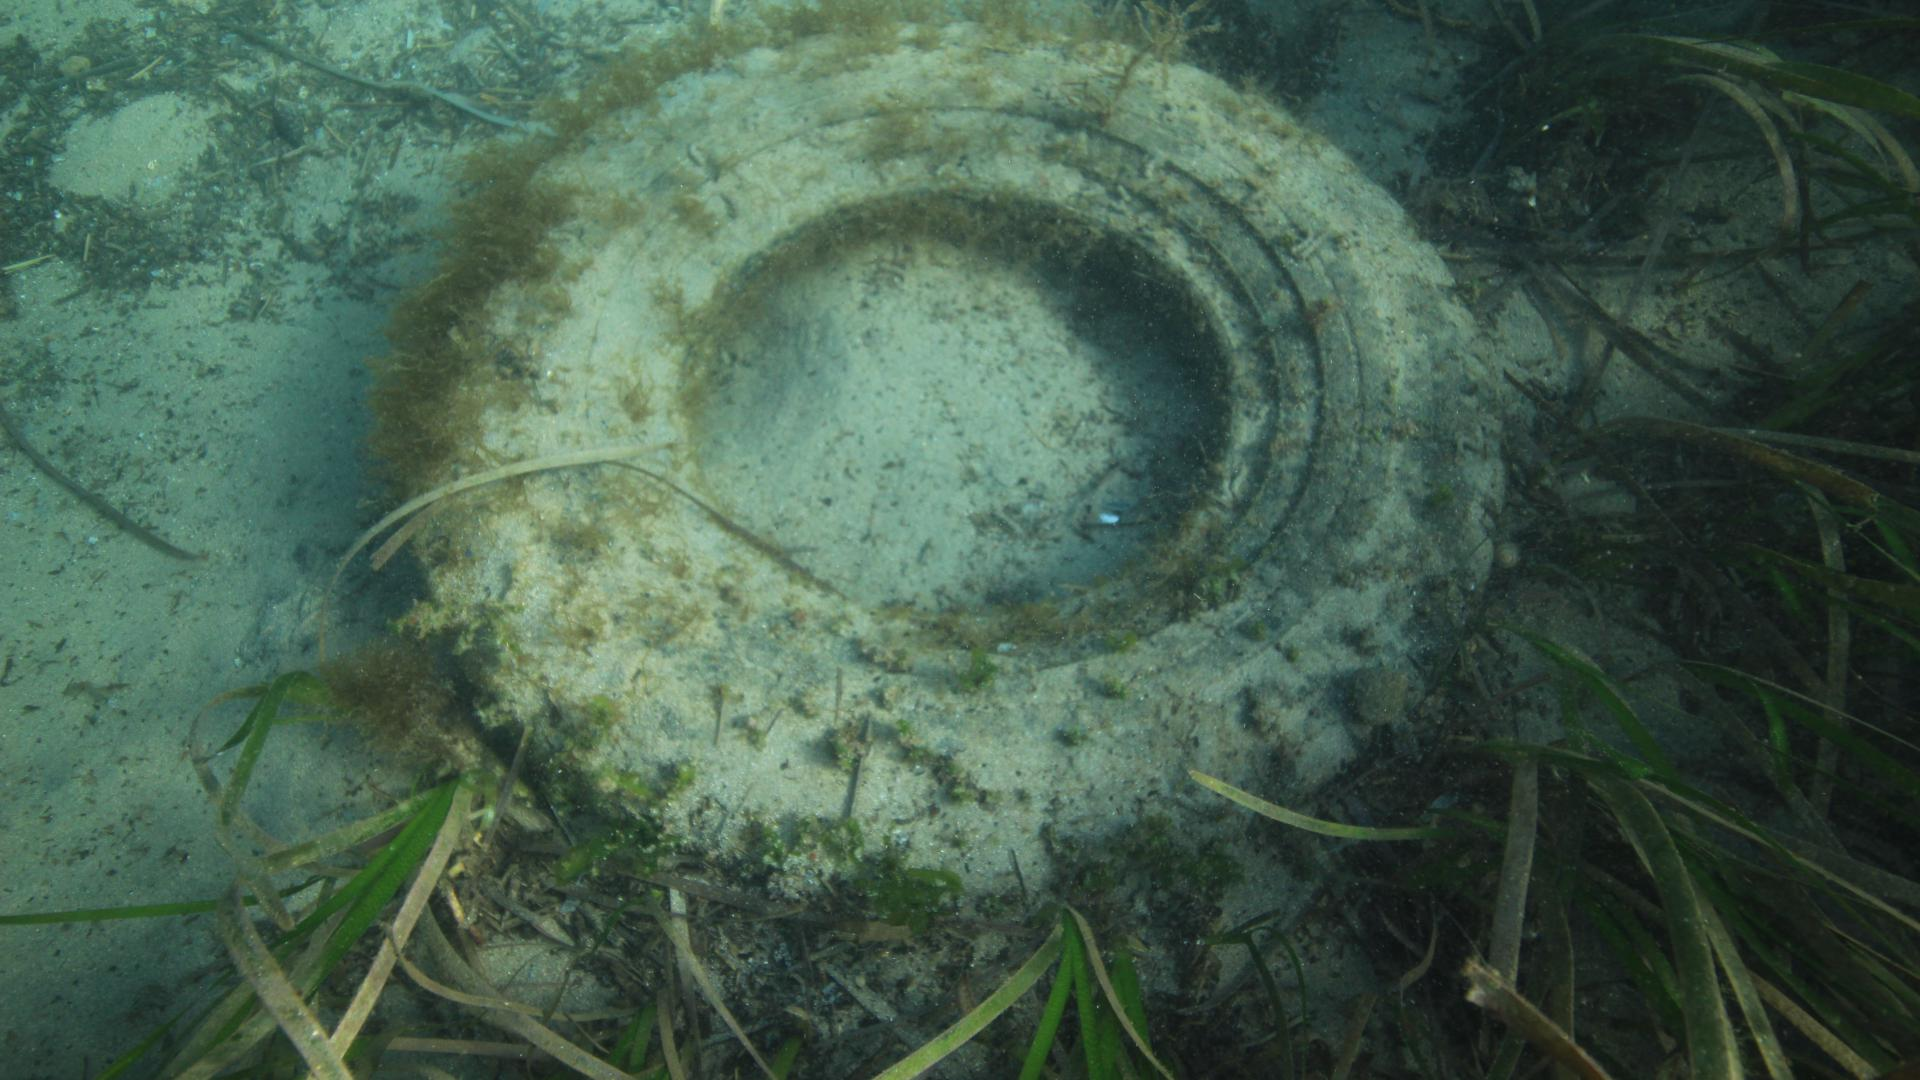tire: (409, 18, 1501, 920)
